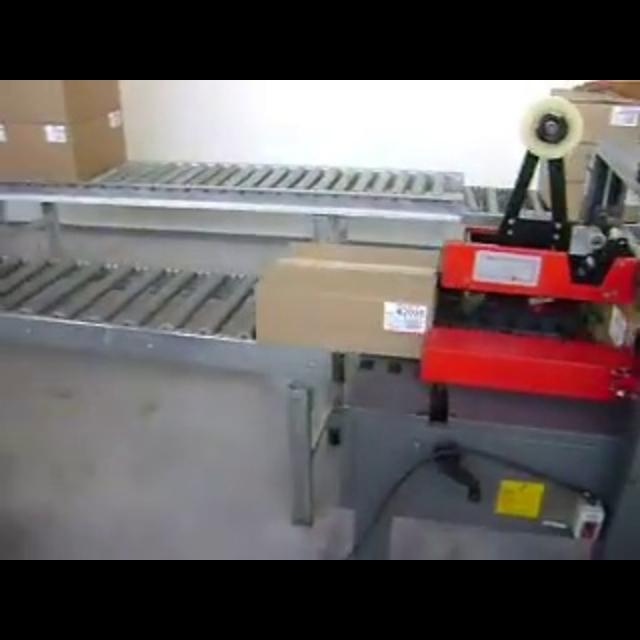Box: (251, 241, 439, 363), (536, 80, 640, 222), (0, 80, 130, 188)
